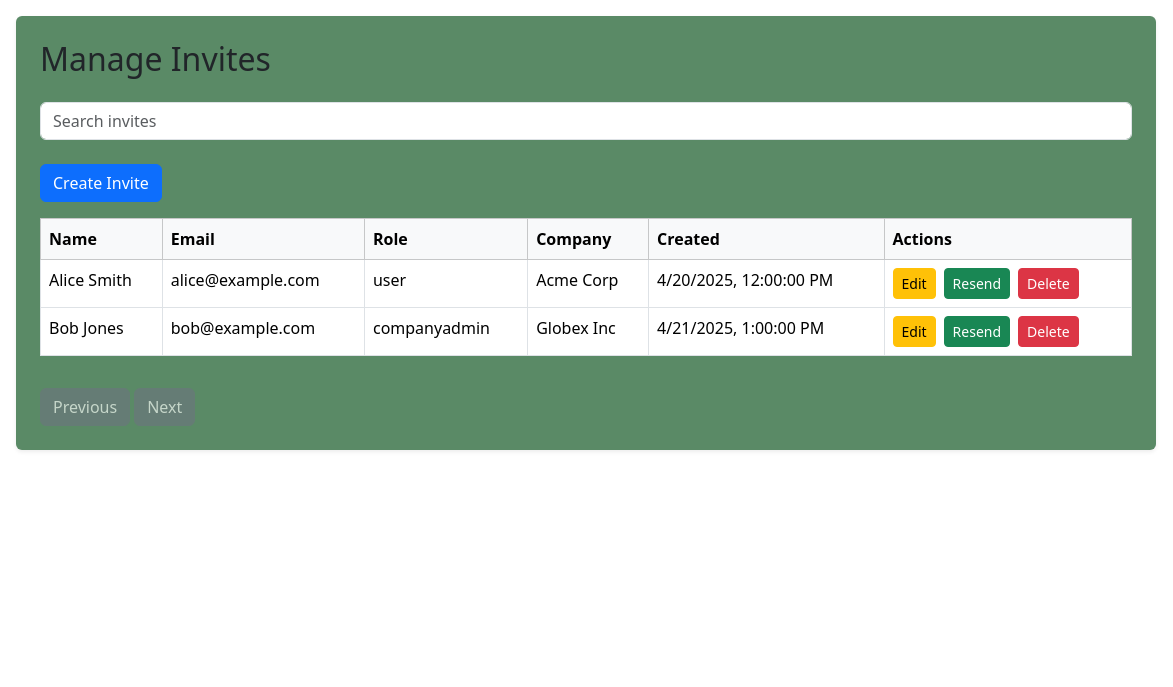
Test: InviteUser Page › opens the form to create a new invite
The image size is (1173, 687).
Check: the heading "Manage Invites" is shown, box [40, 37, 271, 80]
Note: click the "Create Invite" button
Click the button "Create Invite".
click(101, 183)  # box [40, 164, 162, 202]
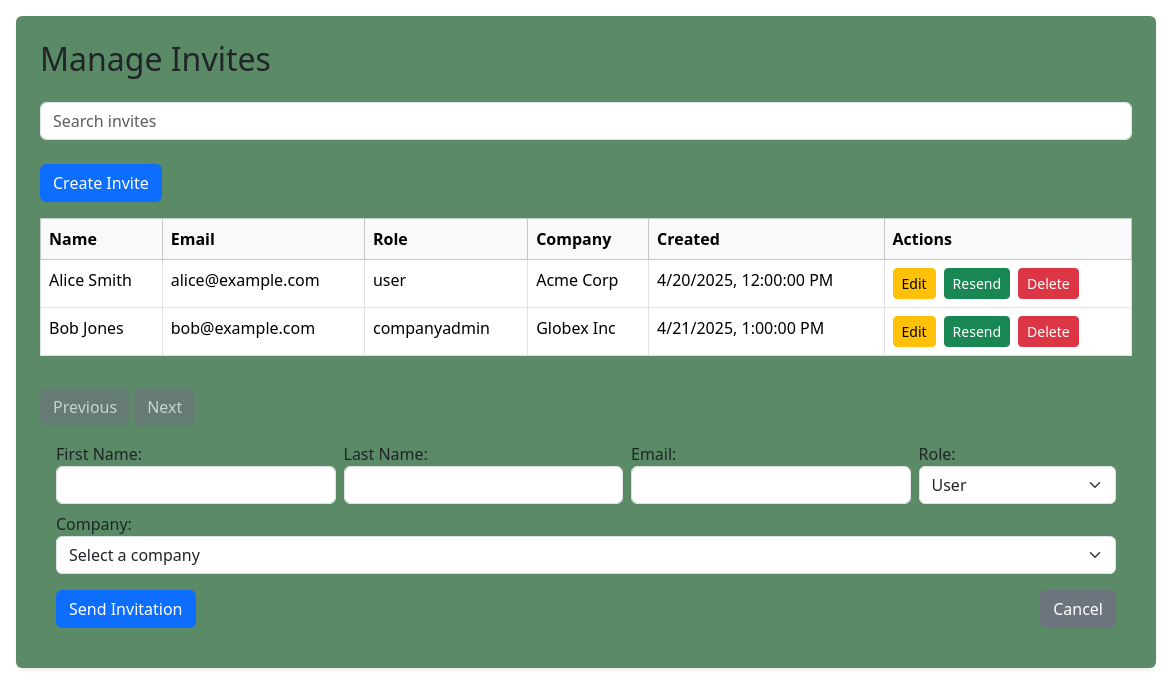
Check: the number of dropdowns is 2, box [918, 466, 1116, 504]; [56, 536, 1116, 574]
